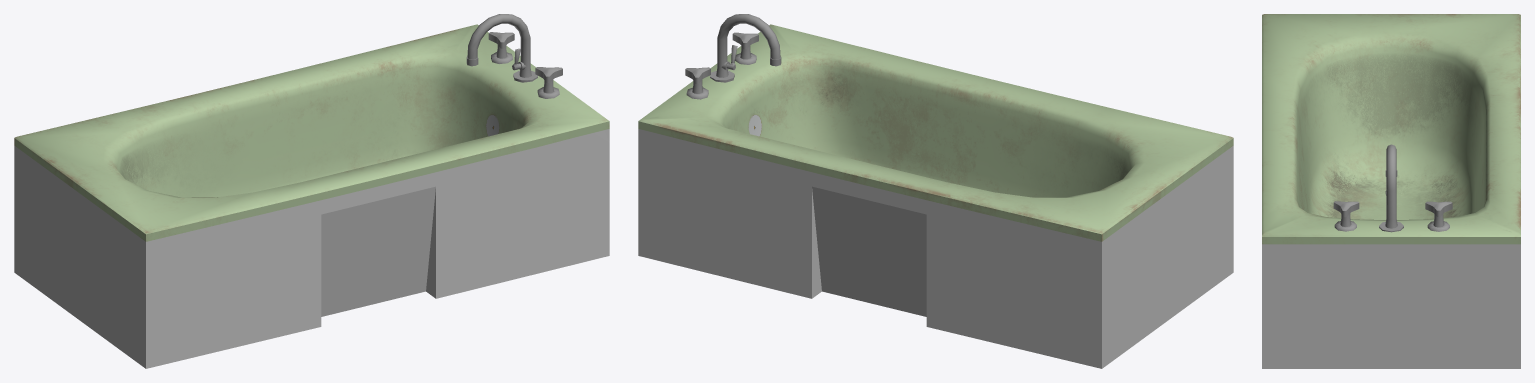
The model's file is Bathtub.FBX.
3 views of the same model, side by side, from view 1: azimuth 30°, elevation 25°; view 2: azimuth 150°, elevation 25°; view 3: azimuth 270°, elevation 25° (orthographic).
Visible parts, largest first — view 1: Bathtub_LOD0; view 2: Bathtub_LOD0; view 3: Bathtub_LOD0.
Part boxes in pixels (x1,y1,x2,y2): Bathtub_LOD0: (14, 14, 609, 368); Bathtub_LOD0: (638, 14, 1233, 368); Bathtub_LOD0: (1262, 14, 1520, 368).
Size of what is drawn, in the model's own units: 298 by 147 by 126.
